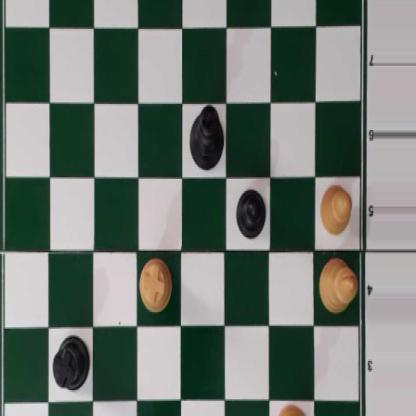black-king: (188, 102, 225, 170)
black-pawn: (236, 185, 266, 239)
black-rook: (52, 335, 90, 392)
white-bishop: (318, 255, 359, 314)
white-king: (274, 404, 314, 416)
white-pawn: (318, 184, 352, 237)
white-rook: (138, 257, 173, 314)
